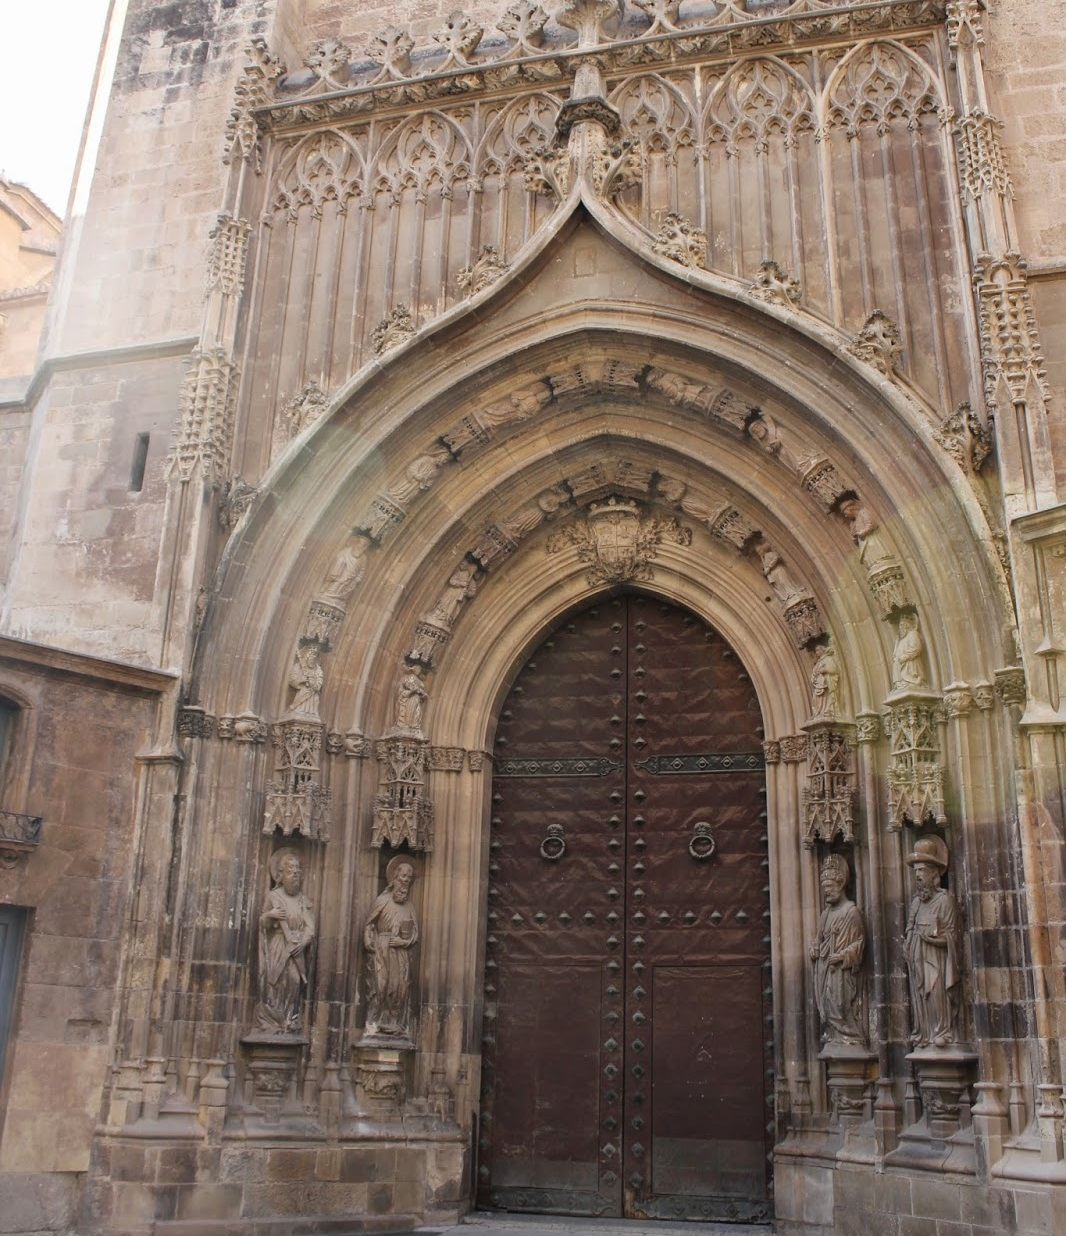arco-apuntado: (248, 324, 947, 714)
arco-conopial: (382, 176, 864, 343)
